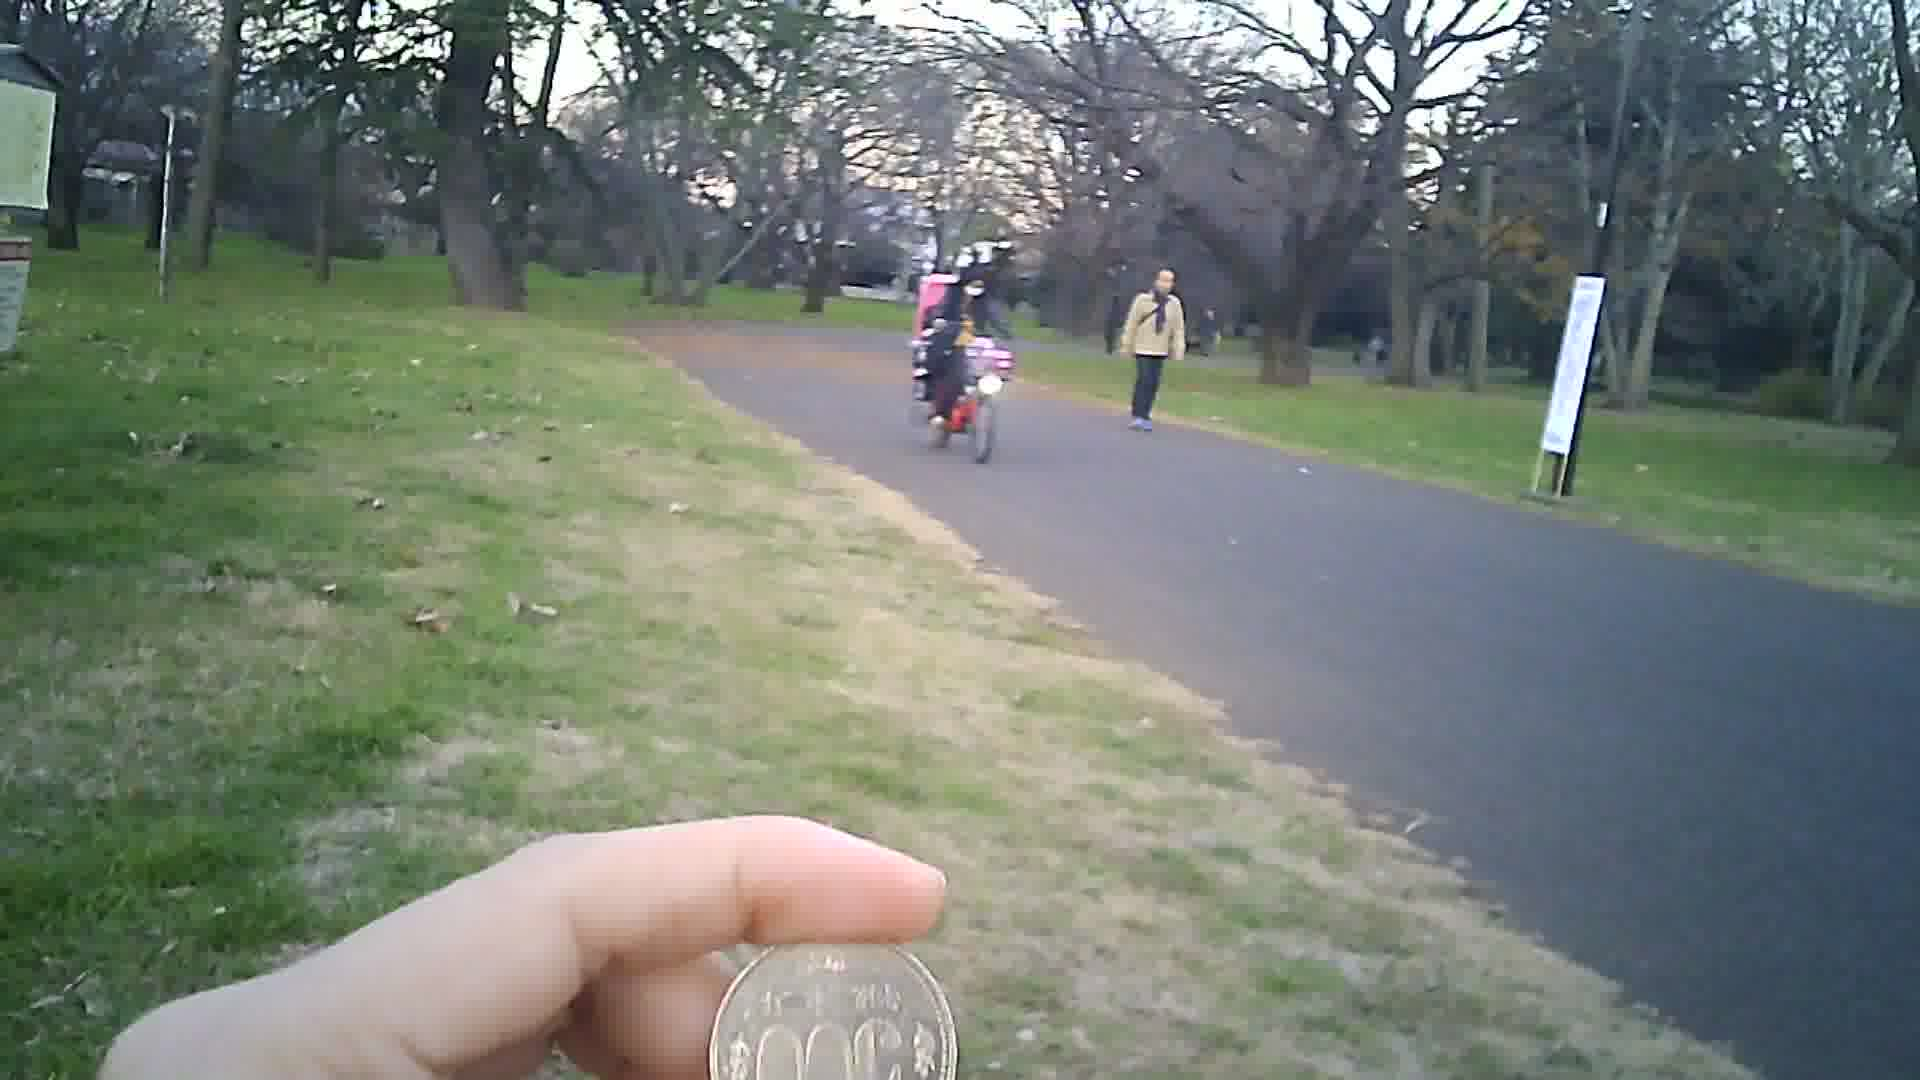500 Yen: (700, 903, 957, 1079)
